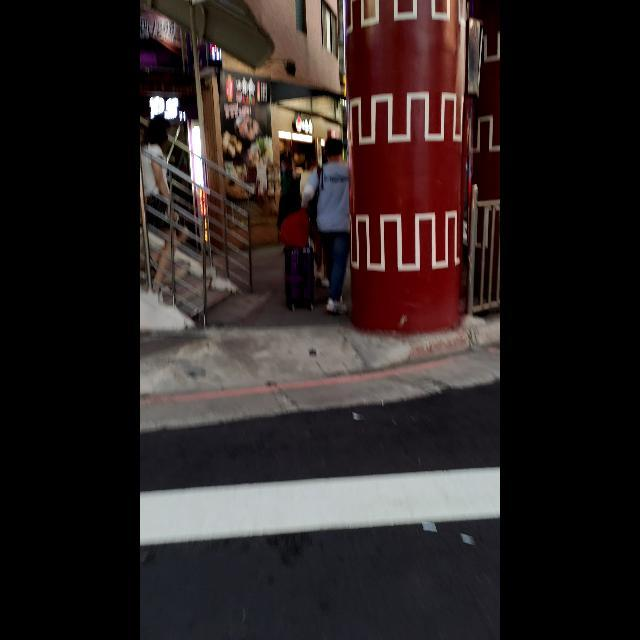sidewalk: (140, 375, 500, 640)
